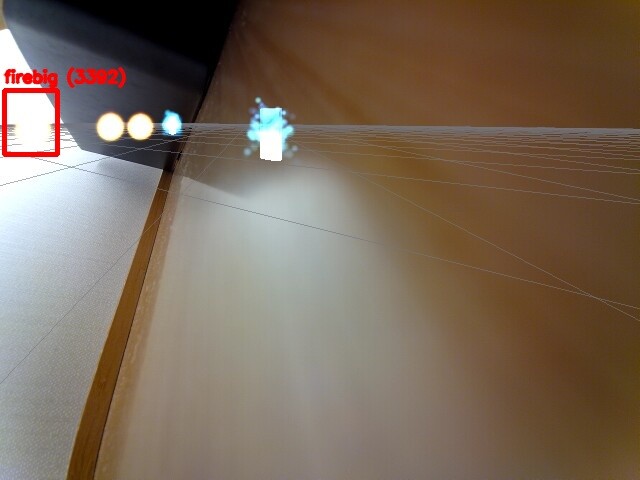firebig: (4, 90, 57, 154)
